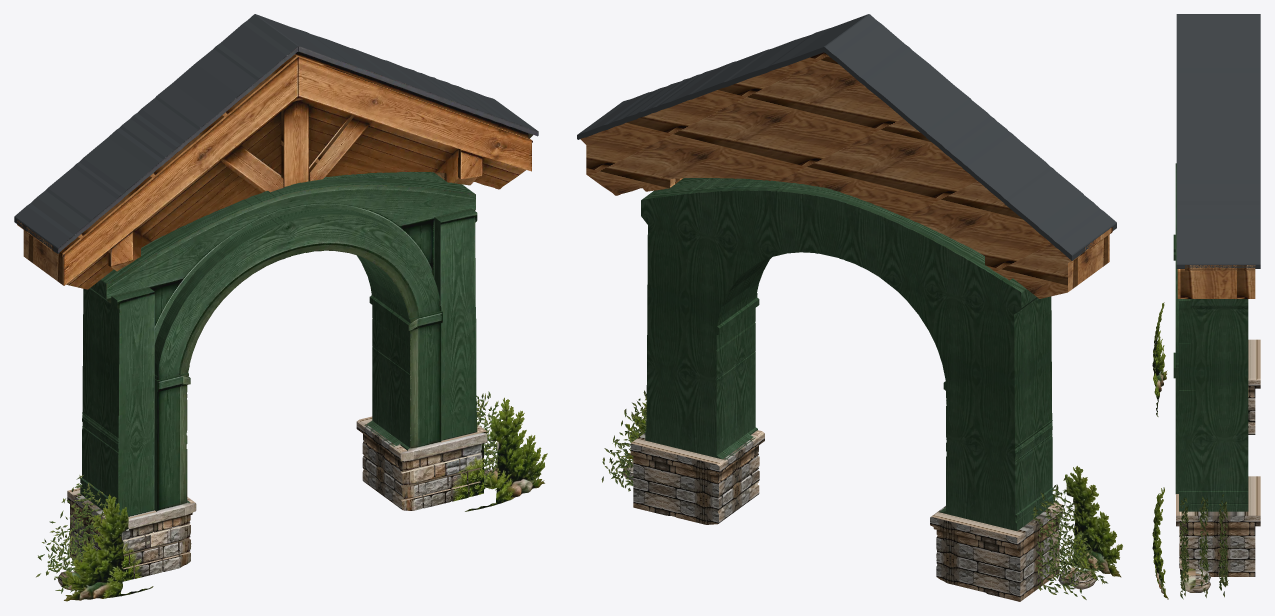
Rendered from domorava-portal.glb.
3 renders of one model, left to right at view 1: azimuth 30°, elevation 25°; view 2: azimuth 150°, elevation 25°; view 3: azimuth 270°, elevation 25°, orthographic. The views are drawn at different scales.
Parts seen in each view (by area): view 1: Frame, Roof, Pedestals, Left_Foliage_Relief.002, Right_Foliage_Relief.002, Left_Evergreen_Leaves_3D.002, Right_Evergreen_Leaves_3D.002; view 2: Frame, Roof, Pedestals, Left_Evergreen_Leaves_3D.002, Left_Foliage_Relief.002, Right_Evergreen_Leaves_3D.002; view 3: Roof, Frame, Pedestals, Right_Evergreen_Leaves_3D.002, Right_Foliage_Relief.002, Left_Foliage_Relief.002, Right_River_Rock_2.002, Right_River_Rock_1.002.
Boxes of the visible parts, x1,y1,x2,y2 form: Frame: [80, 172, 477, 517]; Roof: [14, 14, 538, 289]; Pedestals: [67, 416, 487, 581]; Left_Foliage_Relief.002: [64, 494, 153, 601]; Right_Foliage_Relief.002: [465, 397, 547, 511]; Left_Evergreen_Leaves_3D.002: [36, 475, 107, 593]; Right_Evergreen_Leaves_3D.002: [476, 391, 522, 490]; Frame: [641, 178, 1053, 530]; Roof: [577, 14, 1116, 298]; Pedestals: [630, 430, 1062, 601]; Left_Evergreen_Leaves_3D.002: [1031, 477, 1107, 599]; Left_Foliage_Relief.002: [1059, 466, 1122, 577]; Right_Evergreen_Leaves_3D.002: [601, 390, 646, 491]; Roof: [1176, 14, 1260, 298]; Frame: [1173, 163, 1248, 511]; Pedestals: [1176, 339, 1260, 576]; Right_Evergreen_Leaves_3D.002: [1179, 494, 1228, 599]; Right_Foliage_Relief.002: [1152, 487, 1168, 599]; Left_Foliage_Relief.002: [1152, 302, 1167, 416]; Right_River_Rock_2.002: [1180, 575, 1210, 592]; Right_River_Rock_1.002: [1180, 568, 1210, 580].
Bounding box in the file's own units: 5.22 × 5.12 × 1.05.
Materials: 9 (5 with a texture image).
